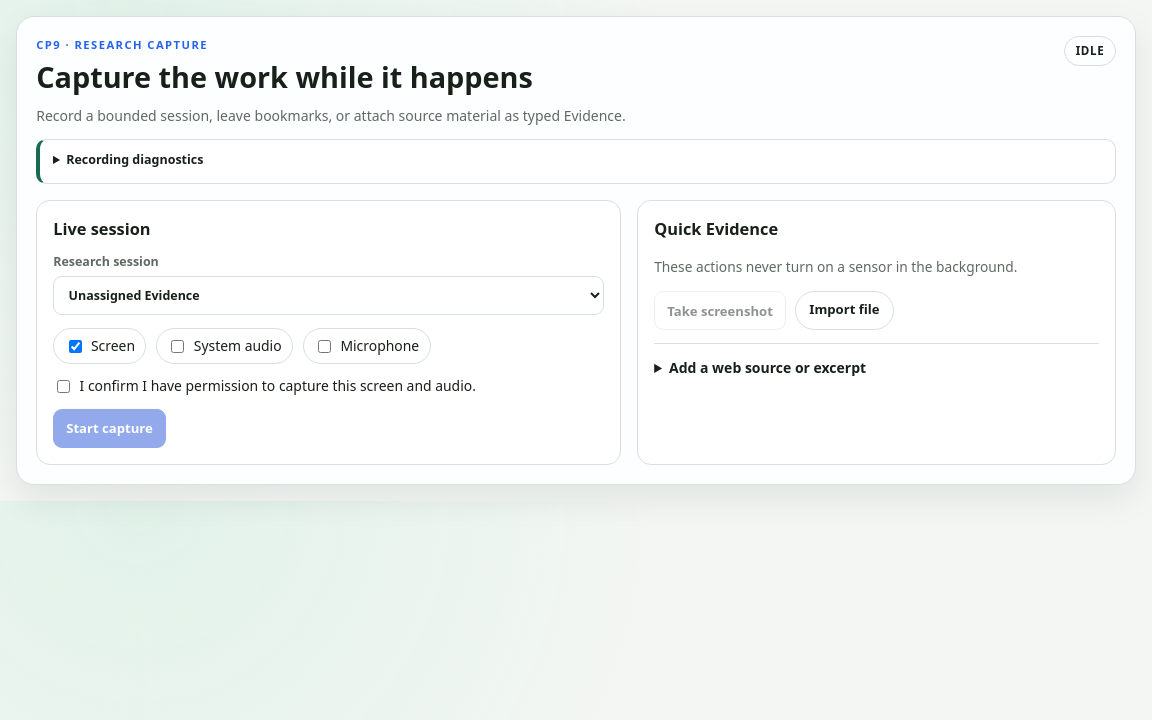
CP9 capture consent boundary › uses WASAPI for Windows system audio with screen=false microphone=false and releases partial grants on failure
Click the checkbox labelled "Screen" at point(75, 346), box left=69, top=340, right=82, bottom=352
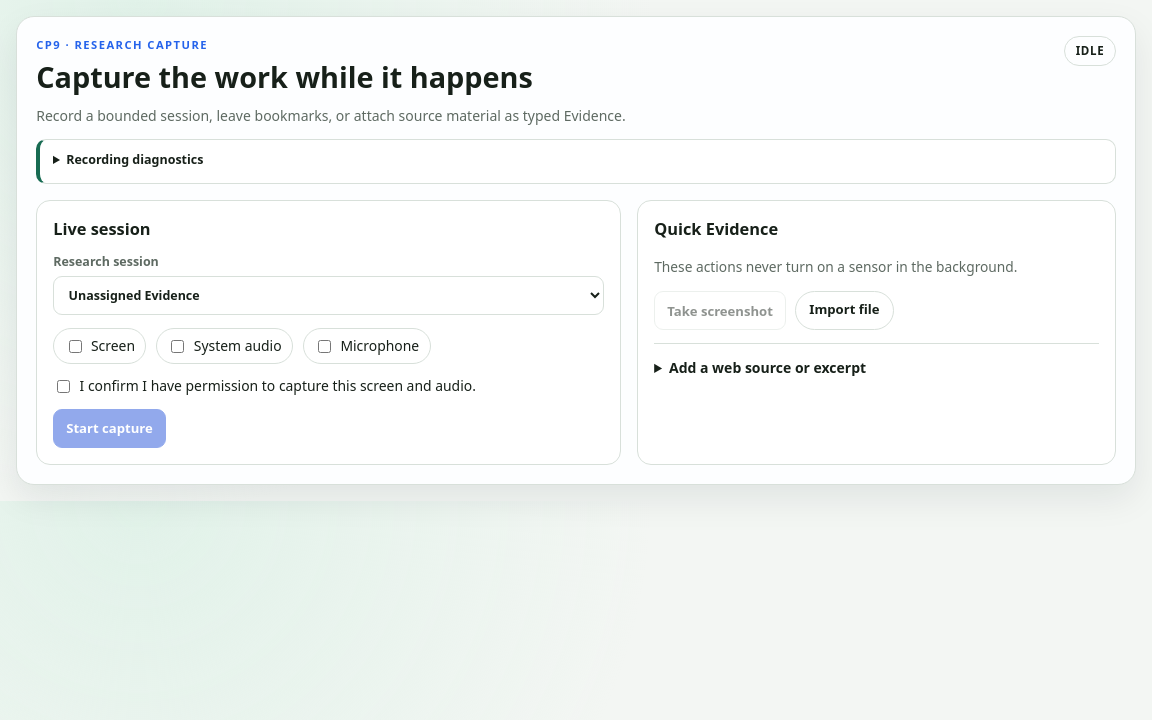
Click the checkbox labelled "System audio" at point(178, 346), box left=171, top=340, right=184, bottom=352
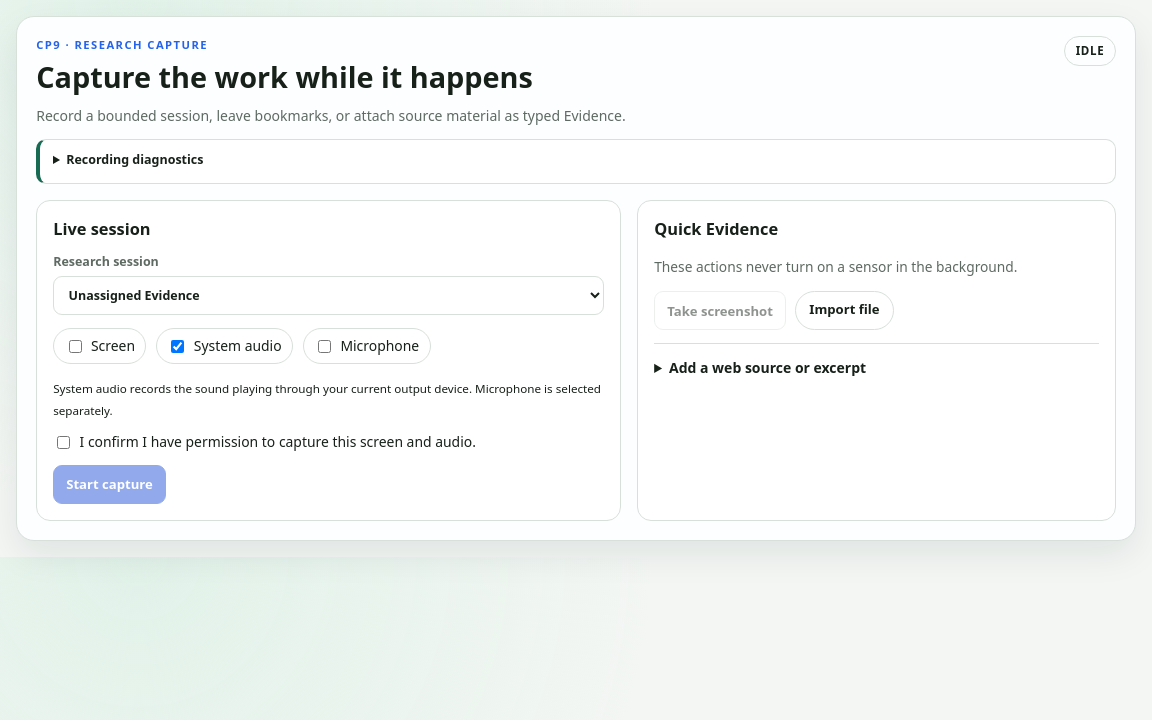
Click the checkbox labelled "I confirm I have permission to capture this screen and audio." at point(64, 443), box left=57, top=436, right=70, bottom=449
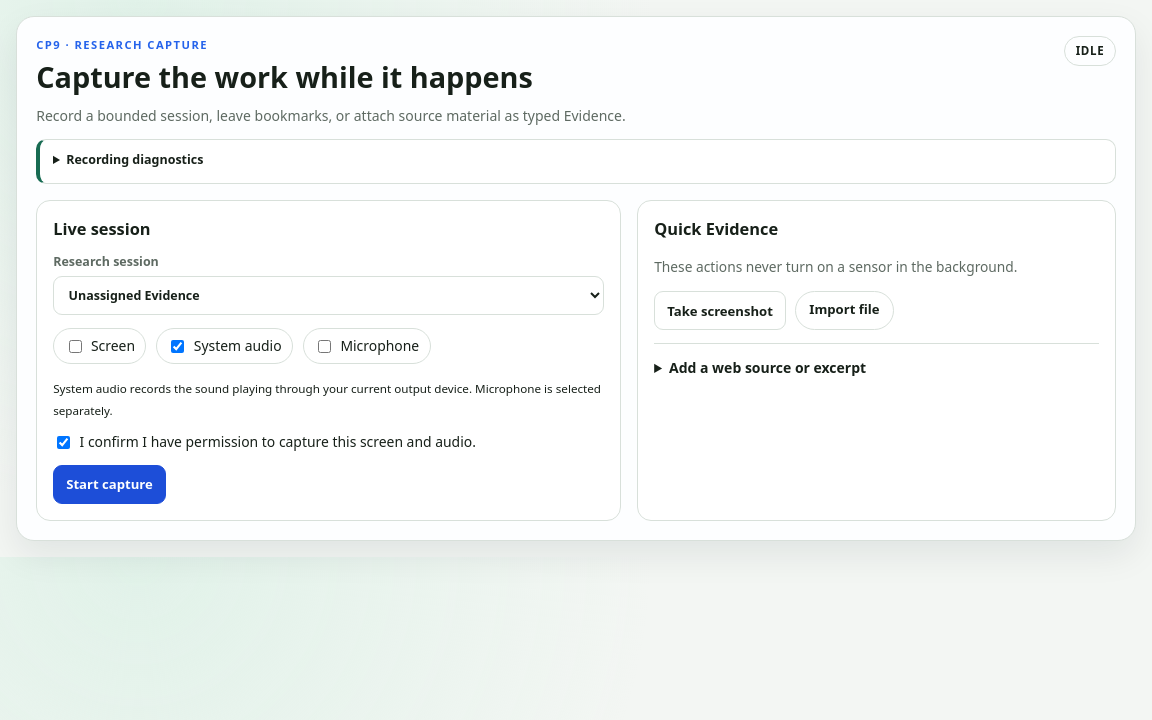
Click the button "Start capture" at point(110, 484), box left=53, top=465, right=166, bottom=504
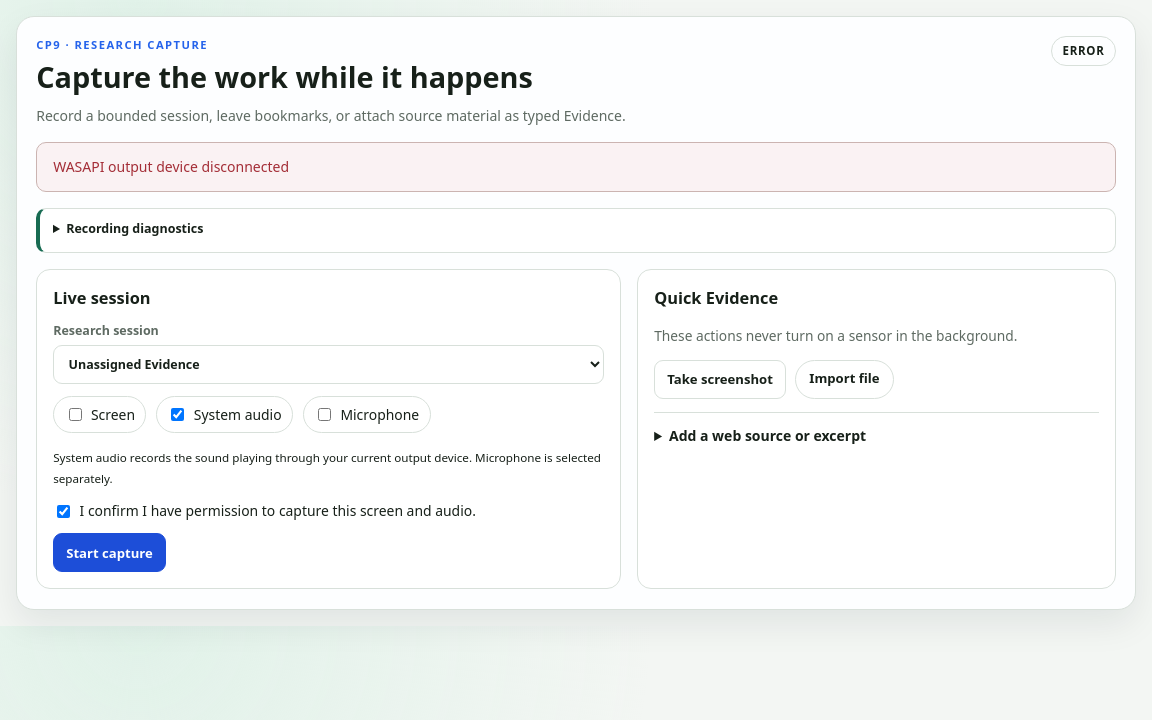
Now the text "WASAPI output device disconnected" is shown, box left=36, top=142, right=1116, bottom=192
